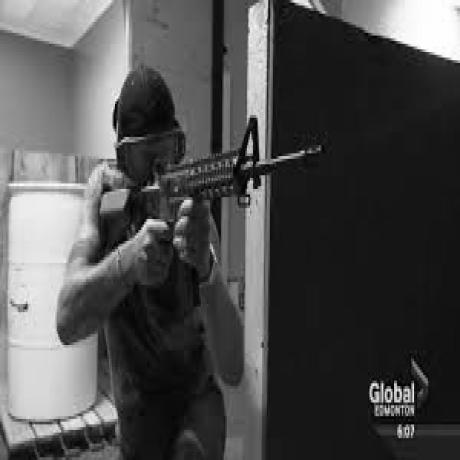Guns: (95, 119, 318, 249)
